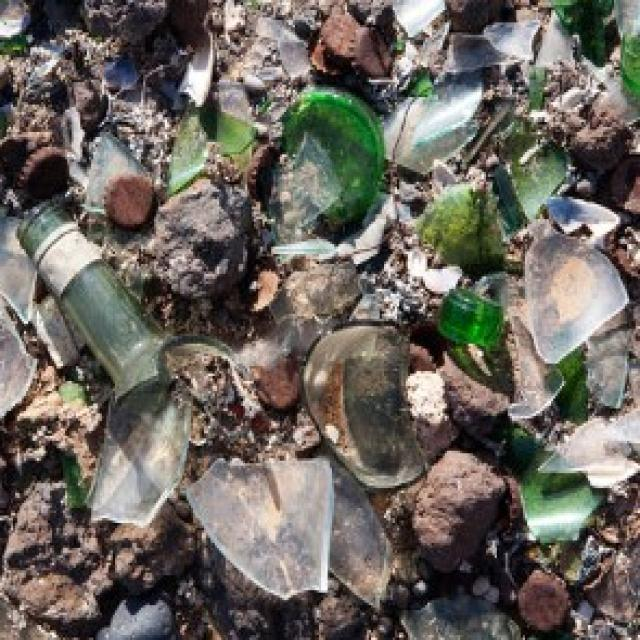electronic: (18, 196, 243, 395), (182, 448, 340, 608), (262, 83, 395, 239), (430, 274, 520, 360)
